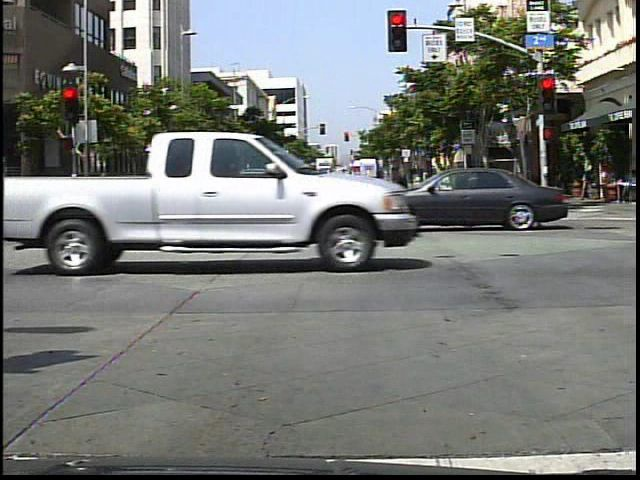person: (385, 163, 416, 230), (431, 160, 463, 224), (164, 166, 197, 225), (582, 156, 601, 205)
